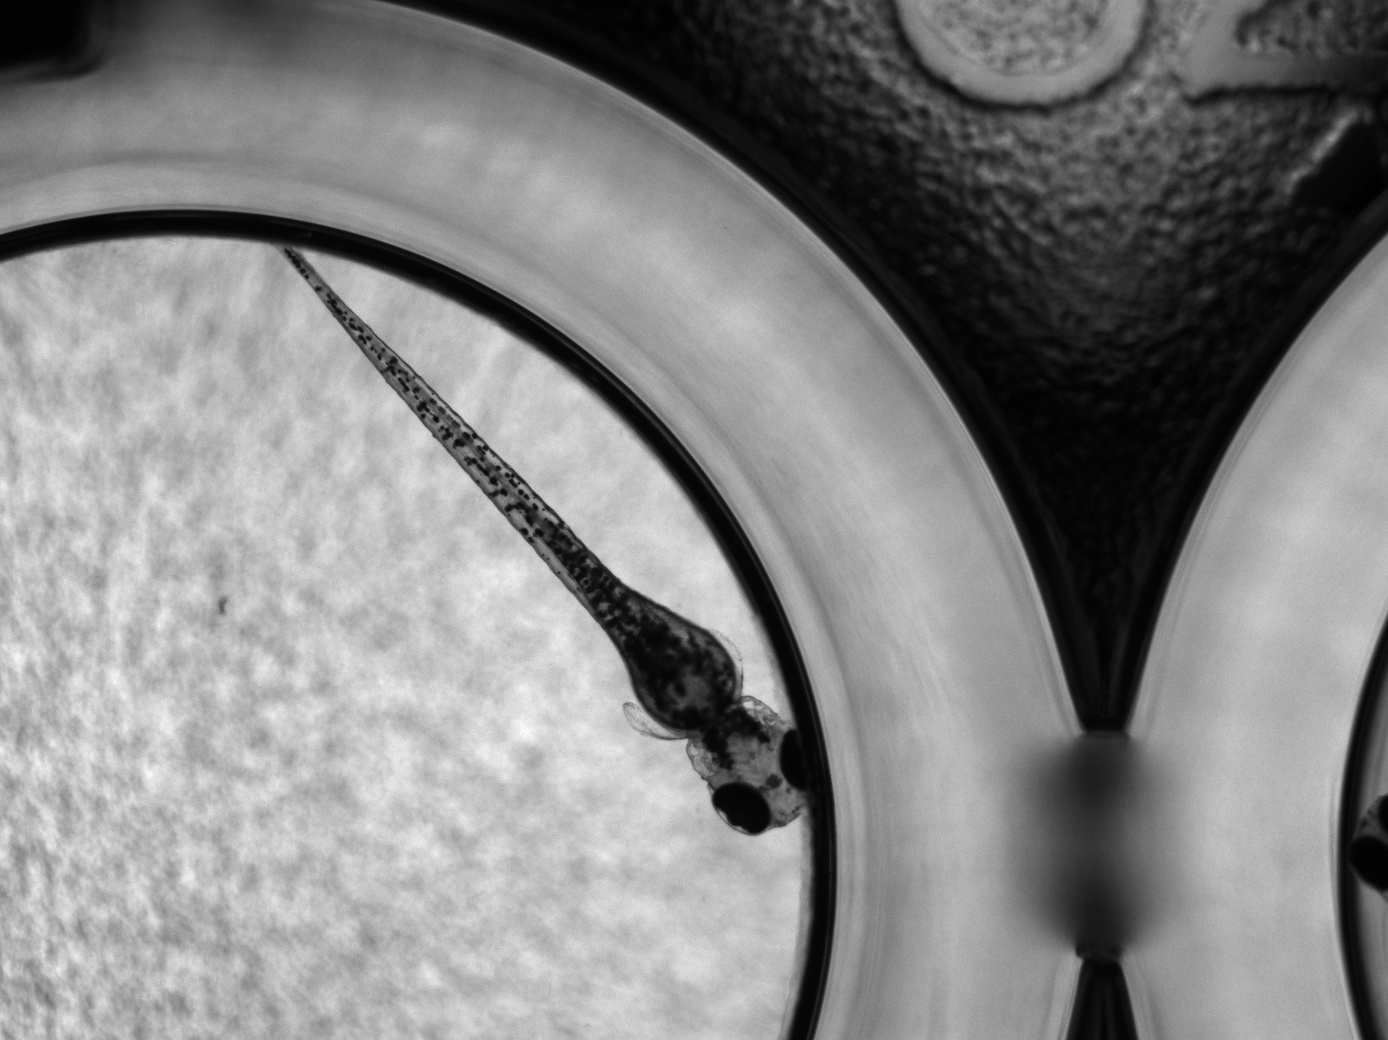embryo: (282, 245, 825, 836)
eye: (711, 781, 771, 836), (778, 728, 811, 795)
yolksac: (627, 619, 738, 731)
